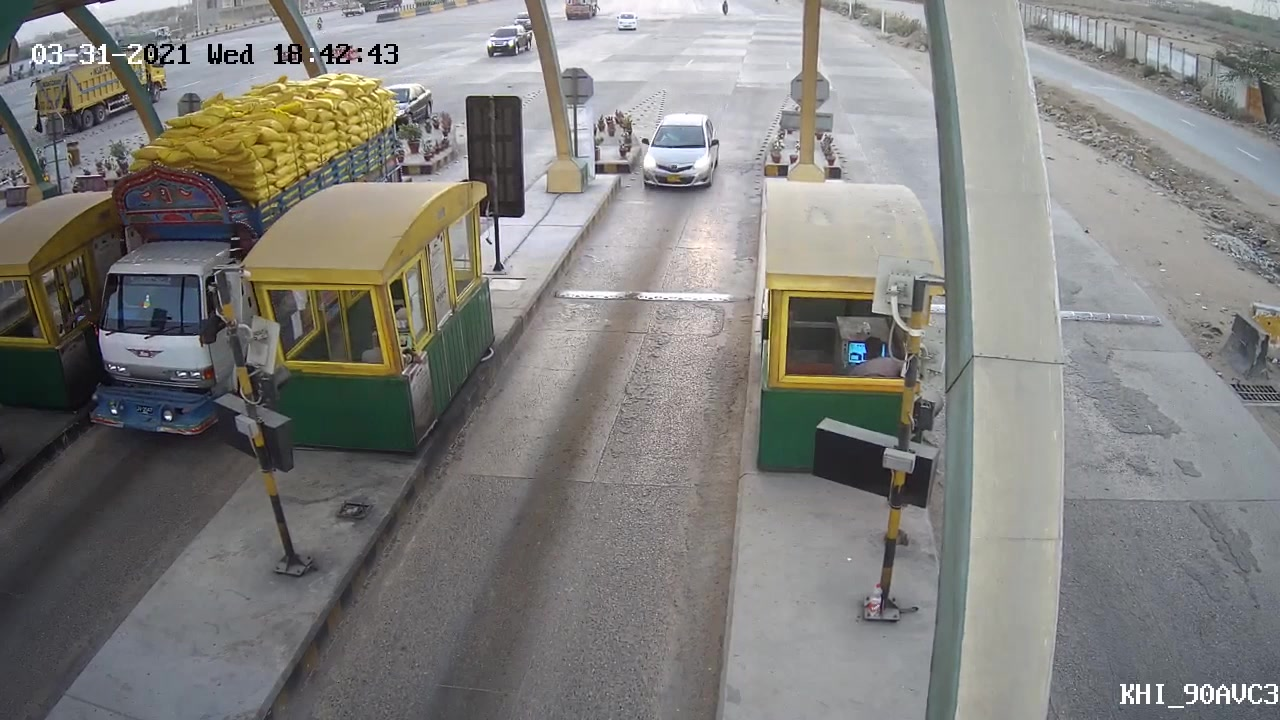F1: (640, 105, 728, 186)
